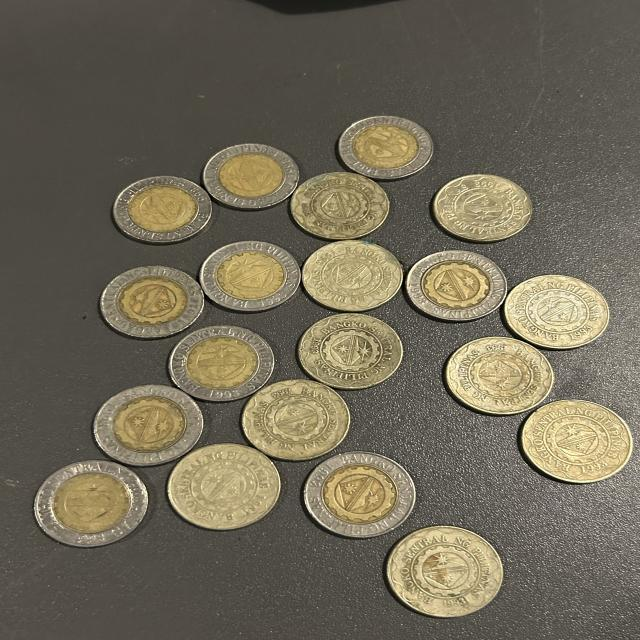10_Old_Back: (90, 382, 205, 466), (305, 451, 413, 537), (164, 325, 272, 399), (406, 250, 508, 323), (198, 242, 302, 312)
5_Old_Back: (166, 445, 278, 529), (244, 376, 352, 459), (444, 337, 554, 414), (302, 239, 401, 312), (439, 178, 528, 243)
